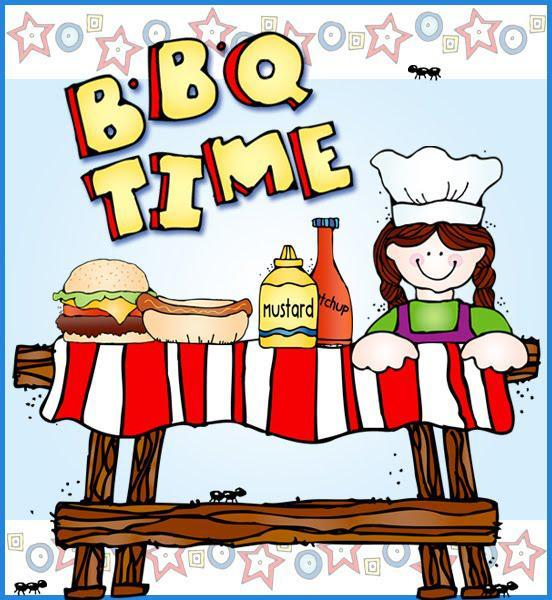bottle: (252, 238, 317, 353), (304, 213, 356, 347)
diningtable: (9, 336, 543, 595)
person: (366, 212, 502, 371)
